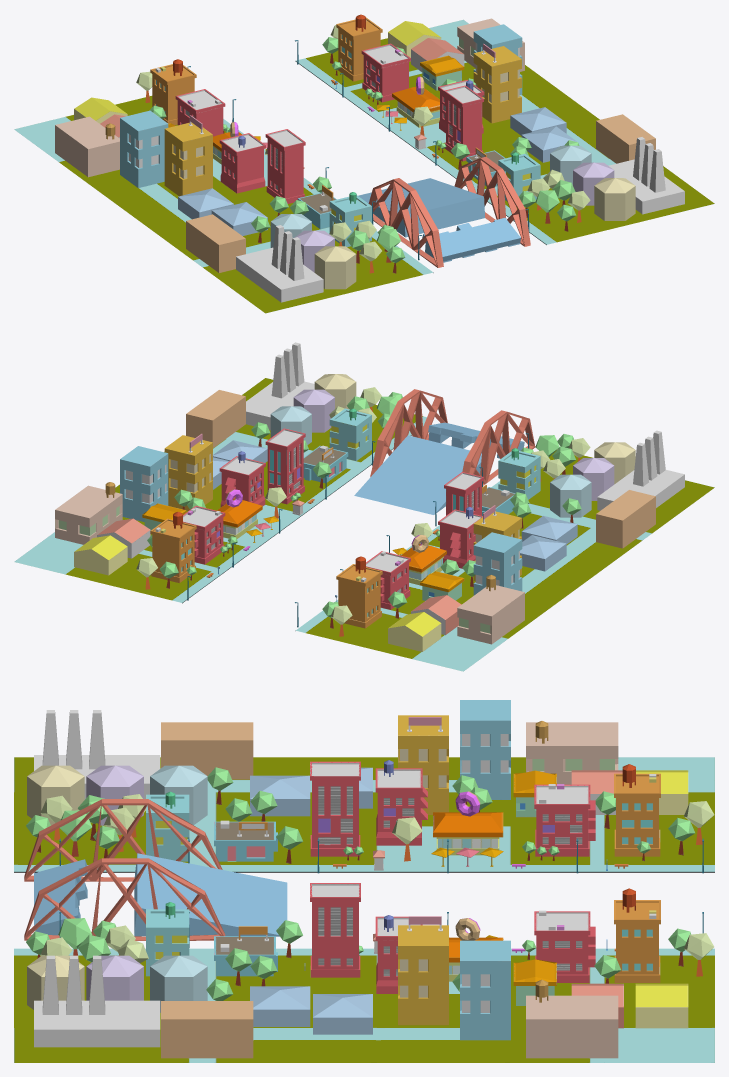
Rendered from city_built_6_double.glb.
The picture shows the model from 3 angles, top to bottom: view 1: azimuth 30°, elevation 25°; view 2: azimuth 150°, elevation 25°; view 3: azimuth 270°, elevation 25°; orthographic projection. The views are drawn at different scales.
Parts seen in each view (by area): view 1: ground, ground.001, second_plan building.002, second_plan building.004, bridge.018, bridge.016, second_plan building, third_plan building.001, bridge.001, building.008, factory building.002, factory building.001 (+32 smaller); view 2: ground.001, ground, bridge.016, third_plan building.001, second_plan building.001, third_plan building, second_plan building, factory building.002, bridge.001, bridge.018, second_plan building.004, factory building (+35 smaller); view 3: ground, ground.001, bridge.016, third_plan building, factory building, factory building.006, second_plan building.001, second_plan building, building.003, third_plan building.001, factory building.002, second_plan building.004 (+46 smaller).
Boxes of the visible parts, bbox=[...] form: ground: bbox=[295, 19, 714, 244]; ground.001: bbox=[14, 96, 433, 313]; second_plan building.002: bbox=[164, 122, 212, 196]; second_plan building.004: bbox=[120, 110, 168, 187]; bridge.018: bbox=[368, 178, 443, 267]; bridge.016: bbox=[358, 178, 484, 237]; second_plan building: bbox=[473, 46, 521, 123]; third_plan building.001: bbox=[55, 116, 119, 177]; bridge.001: bbox=[454, 156, 530, 246]; building.008: bbox=[265, 129, 305, 203]; factory building.002: bbox=[186, 214, 245, 272]; factory building.001: bbox=[236, 247, 323, 302]; ground.001: bbox=[295, 449, 714, 671]; ground: bbox=[14, 378, 426, 603]; bridge.016: bbox=[354, 435, 481, 514]; third_plan building.001: bbox=[457, 585, 524, 644]; second_plan building.001: bbox=[120, 446, 168, 521]; third_plan building: bbox=[55, 485, 122, 544]; second_plan building: bbox=[164, 435, 212, 510]; factory building.002: bbox=[596, 490, 655, 548]; bridge.001: bbox=[370, 389, 447, 476]; bridge.018: bbox=[462, 410, 535, 485]; second_plan building.004: bbox=[473, 532, 522, 595]; factory building: bbox=[186, 390, 245, 447]; ground: bbox=[14, 948, 714, 1062]; ground.001: bbox=[14, 757, 714, 872]; bridge.016: bbox=[134, 853, 287, 936]; third_plan building: bbox=[526, 995, 618, 1058]; factory building: bbox=[161, 1001, 253, 1058]; factory building.006: bbox=[34, 1000, 160, 1047]; second_plan building.001: bbox=[460, 940, 510, 1040]; second_plan building: bbox=[398, 925, 448, 1025]; building.003: bbox=[310, 883, 360, 977]; third_plan building.001: bbox=[526, 722, 618, 784]; factory building.002: bbox=[161, 722, 253, 779]; second_plan building.004: bbox=[460, 700, 510, 799].
Bounding box in the file's own units: 33.51 × 4.96 × 32.49.
40 materials, 21 textured.
